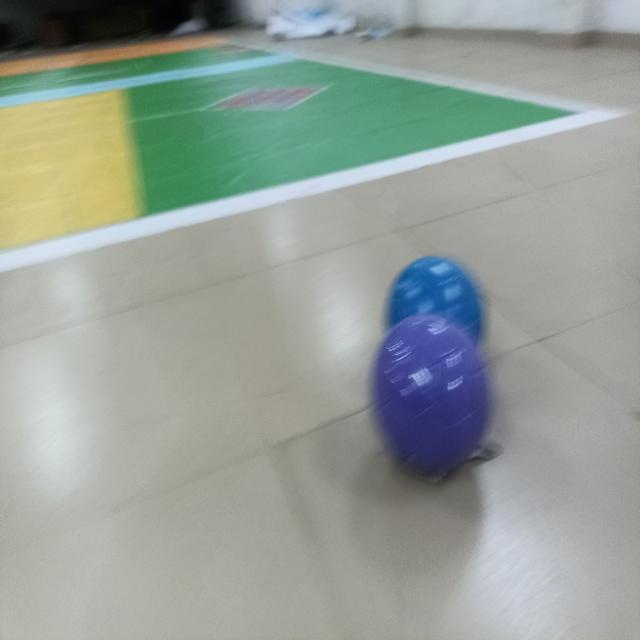blue_ball: (384, 251, 492, 356)
purple_ball: (366, 314, 494, 482)
